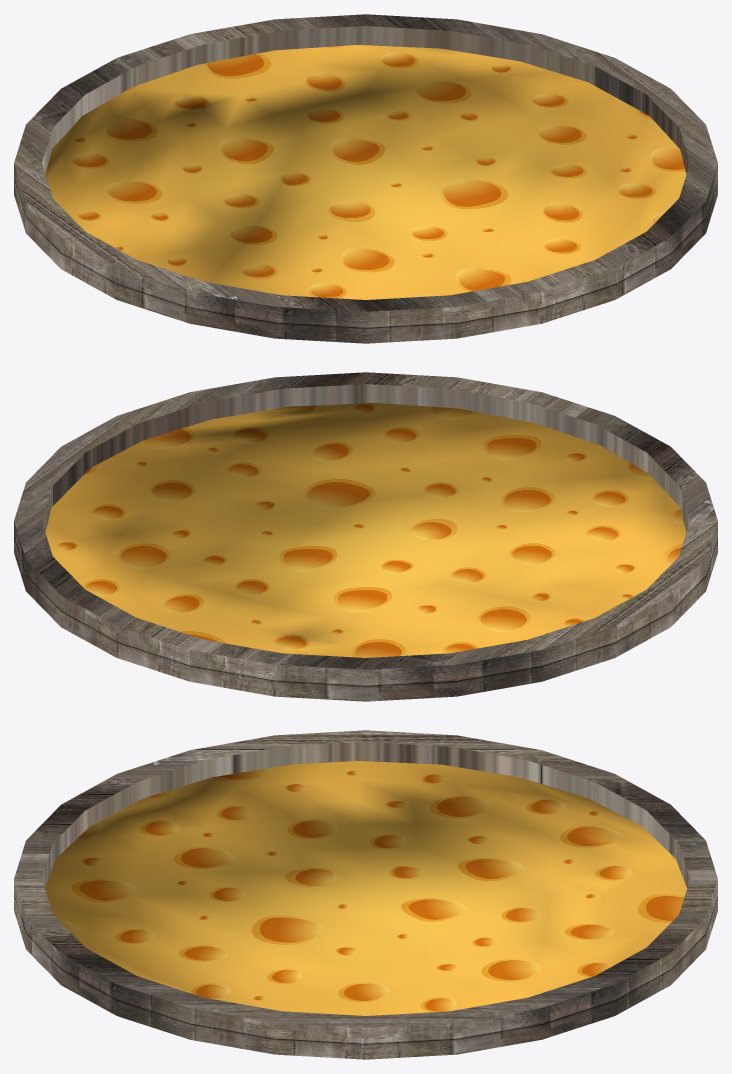
File: Cheesepile.glb
3 views of the same model, one above another, from view 1: azimuth 30°, elevation 25°; view 2: azimuth 150°, elevation 25°; view 3: azimuth 270°, elevation 25° (orthographic).
Visible parts, largest first — view 1: Cheese, Plate; view 2: Cheese, Plate; view 3: Cheese, Plate.
Boxes of the visible parts, box(x1,y1,x2,y2) form: Cheese: box(45, 45, 686, 299); Plate: box(14, 14, 717, 343); Cheese: box(45, 403, 686, 657); Plate: box(14, 372, 717, 701); Cheese: box(45, 761, 686, 1015); Plate: box(14, 730, 717, 1059).
Size of the model in its own units: 5.92 by 0.2958 by 5.92.
Materials: 2 (2 with a texture image).
